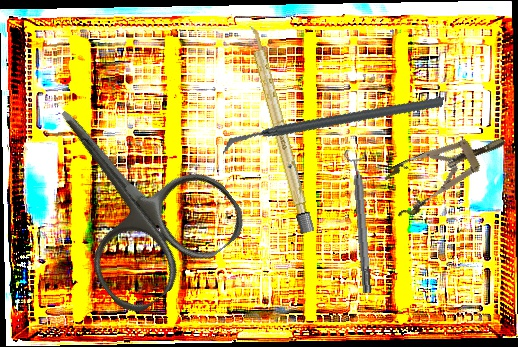Chopper: (222, 49, 445, 202)
Fixation Ring: (344, 148, 378, 294)
Iris Scissors: (3, 62, 254, 322)
Scalpel Handle: (245, 23, 315, 235)
Speculum: (377, 117, 517, 222)
